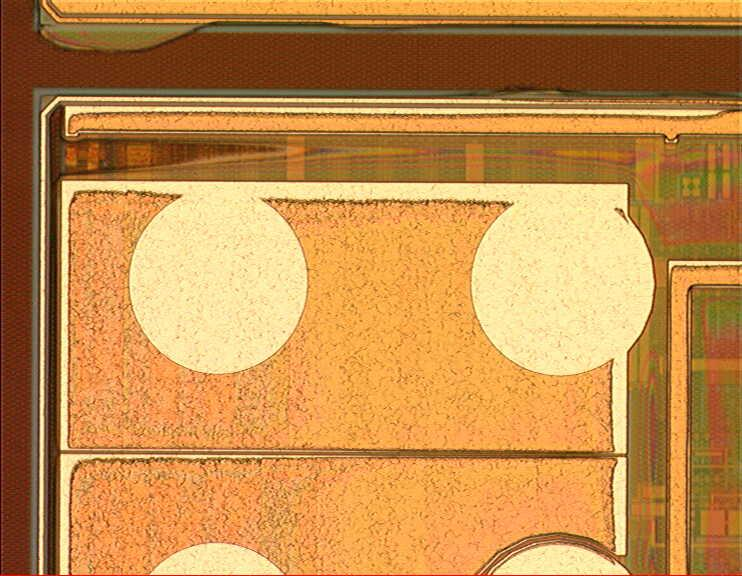COATING BAD: (36, 1, 742, 576)
